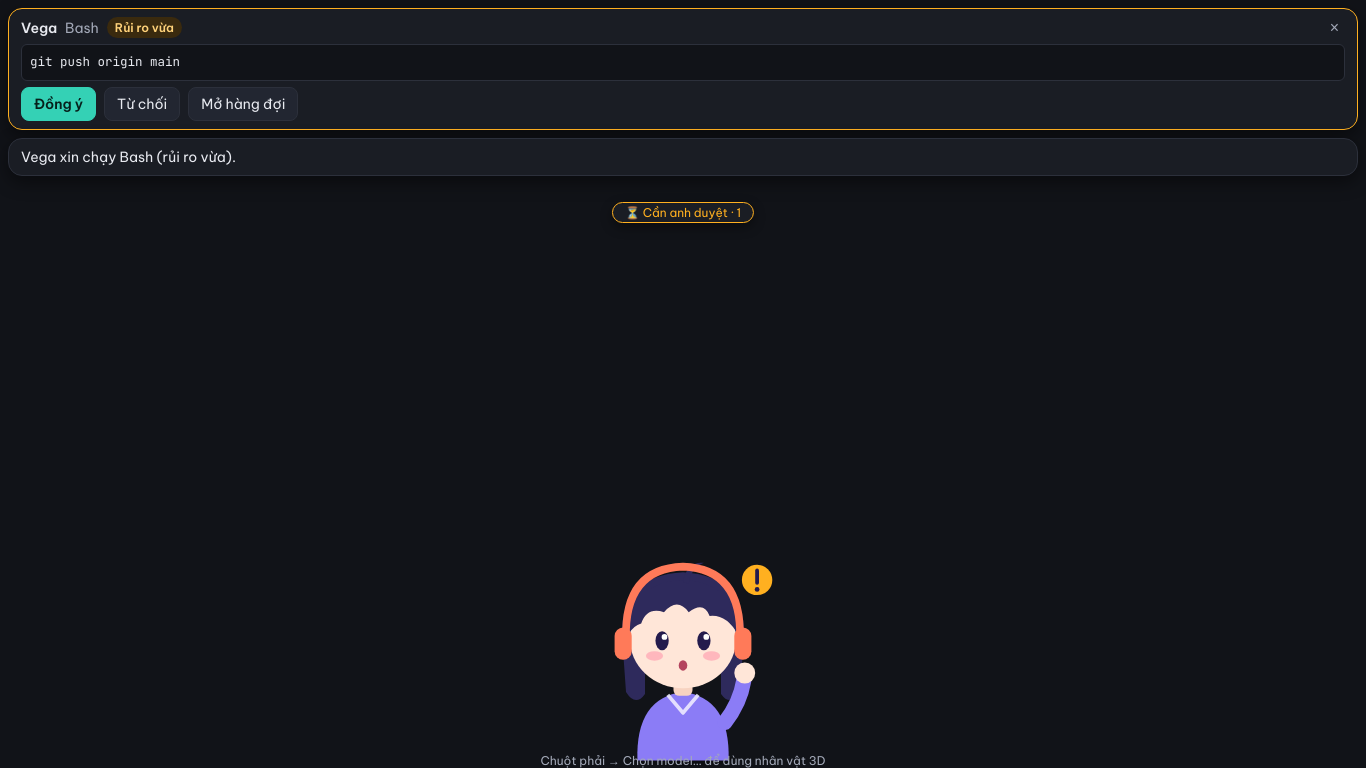
Scenario: PetView › lời nhắc gần đây: liệt kê câu pet định nói, mới nhất trước
Right-click the button with aria-label "Trợ lý Arcturus" at (683,654), box [540,540,826,767]
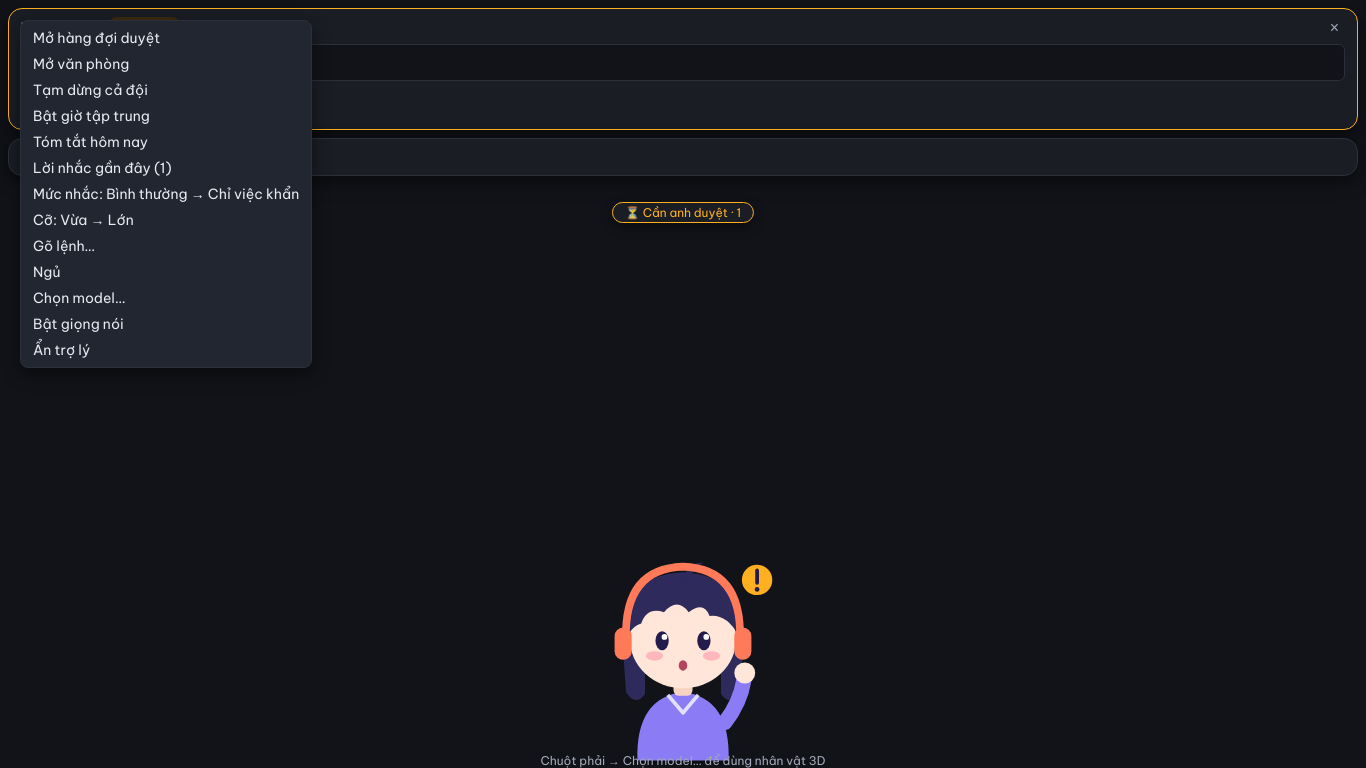
Click the menu item "Lời nhắc gần đây (1)". click: (166,168)
box: [25,155,307,181]
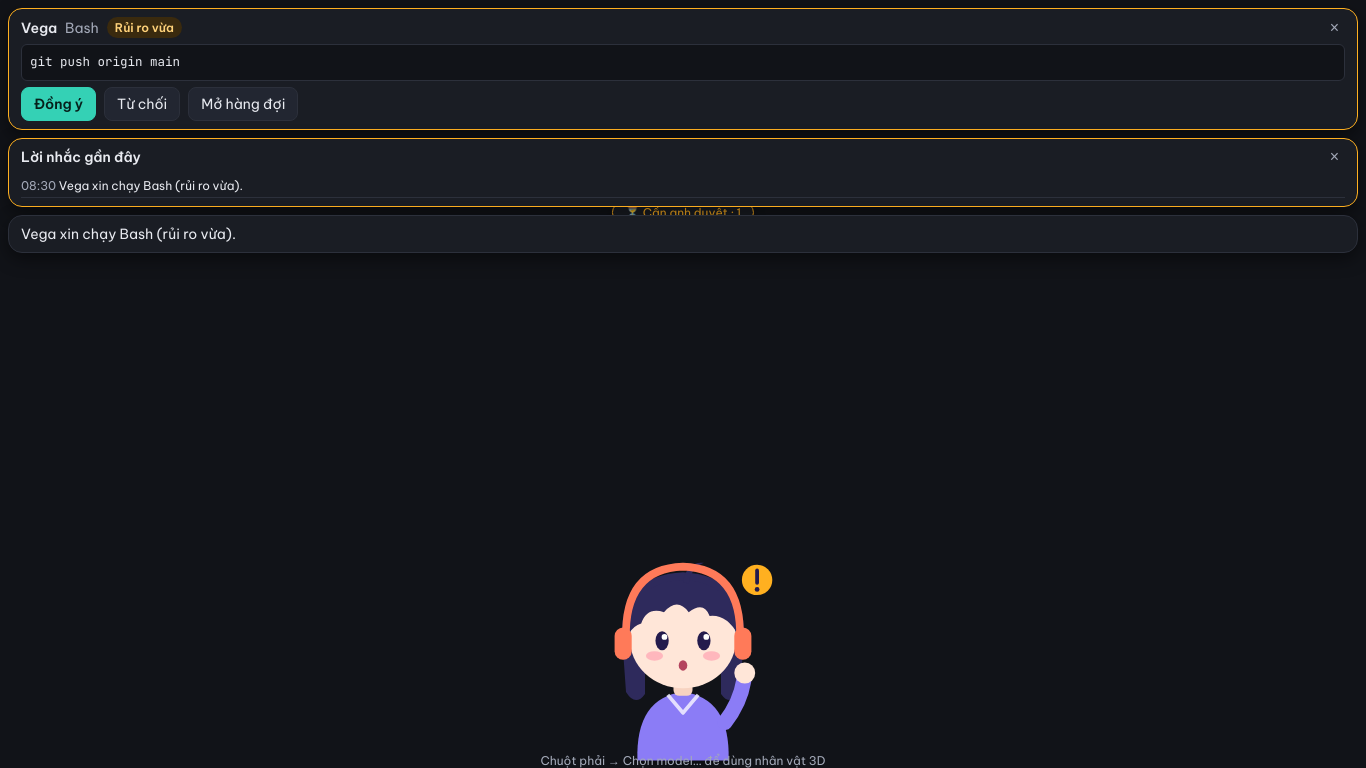
expect the element "Lời nhắc gần đây" shows "Vega xin chạy Bash": met, box [59,178,243,193]
Click the button named "Đóng lời nhắc gần đây". click: (1334,157)
box: [1324,147,1345,167]
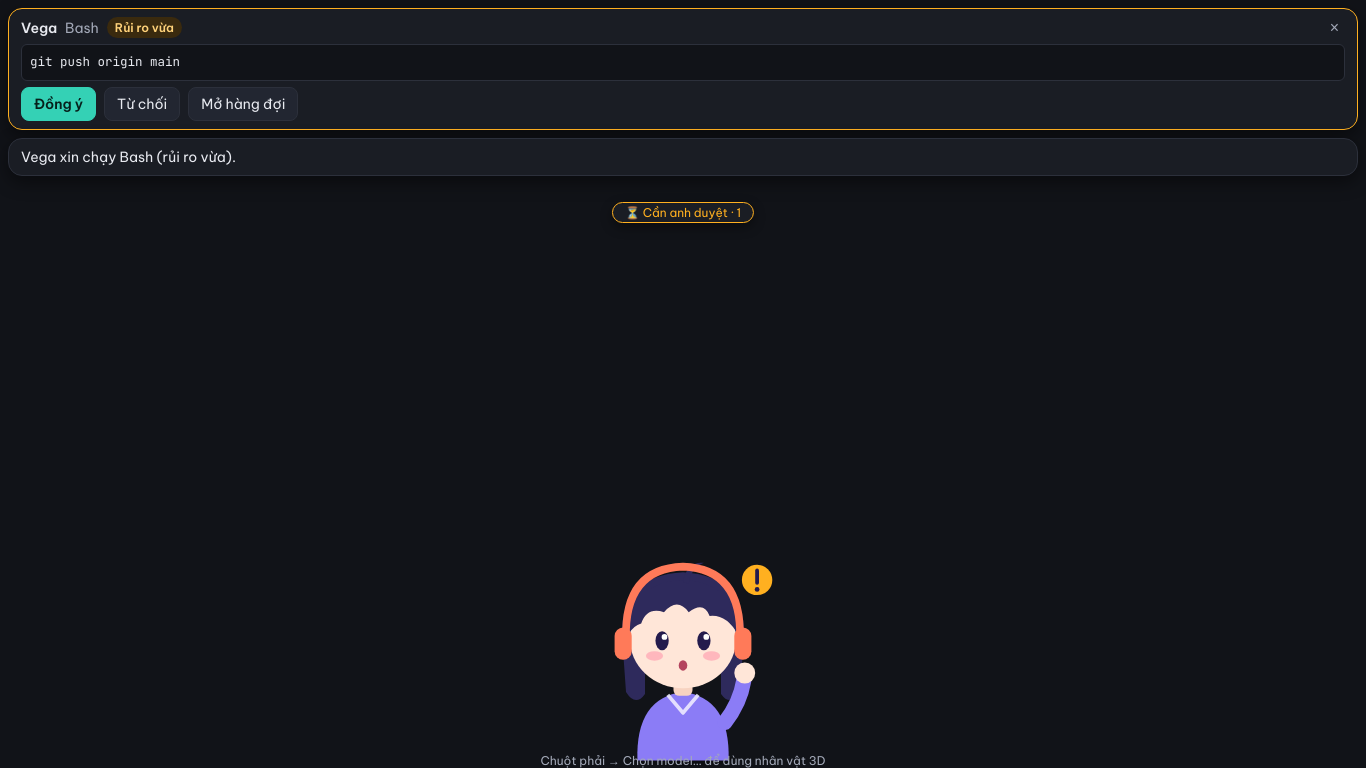
expect the text "Lời nhắc gần đây" is gone: met
